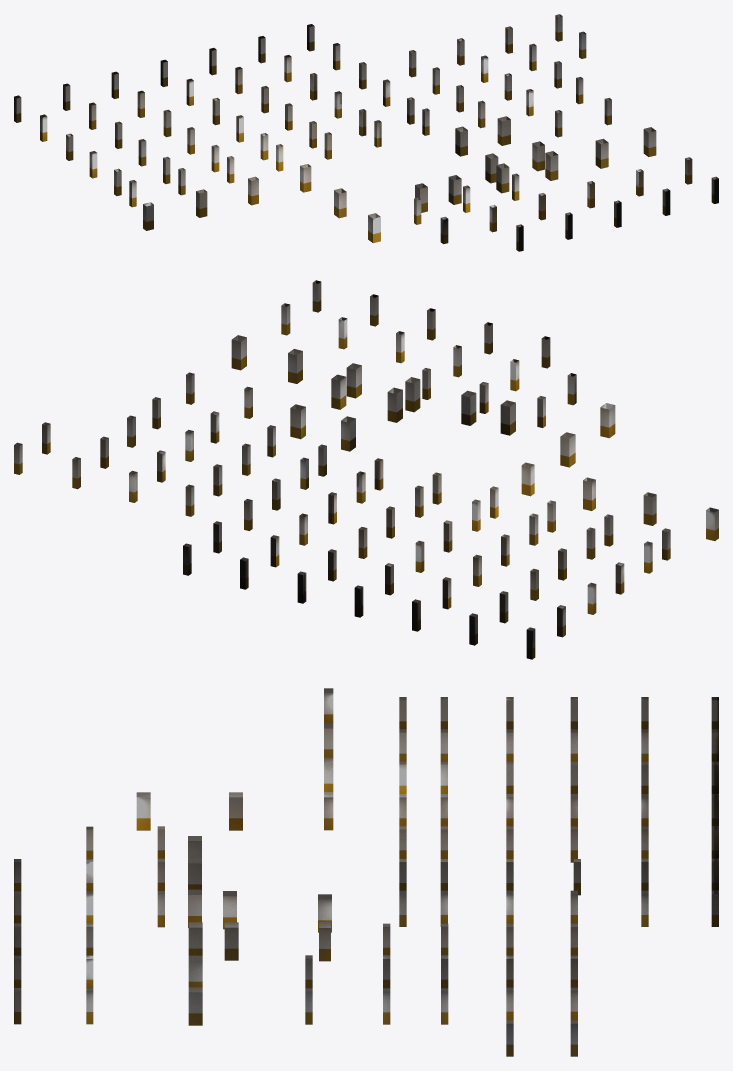
The model's file is 4P3zhuzi.obj.
3 views of the same model, one above another, from view 1: azimuth 30°, elevation 25°; view 2: azimuth 150°, elevation 25°; view 3: azimuth 270°, elevation 25° (orthographic). The views are drawn at different scales.
Visible parts, largest first — view 1: 4P3zhuzi; view 2: 4P3zhuzi; view 3: 4P3zhuzi.
Boxes of the visible parts, box(x1,y1,x2,y2) form: 4P3zhuzi: box(14, 14, 718, 251); 4P3zhuzi: box(14, 280, 718, 659); 4P3zhuzi: box(14, 688, 718, 1056).
Bounding box in the file's own units: 97.52 × 4.5 × 86.66.
1 material, 1 textured.
